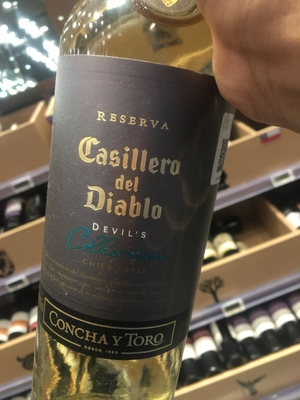casillero del diablo devils collection verde: (26, 8, 245, 393)
